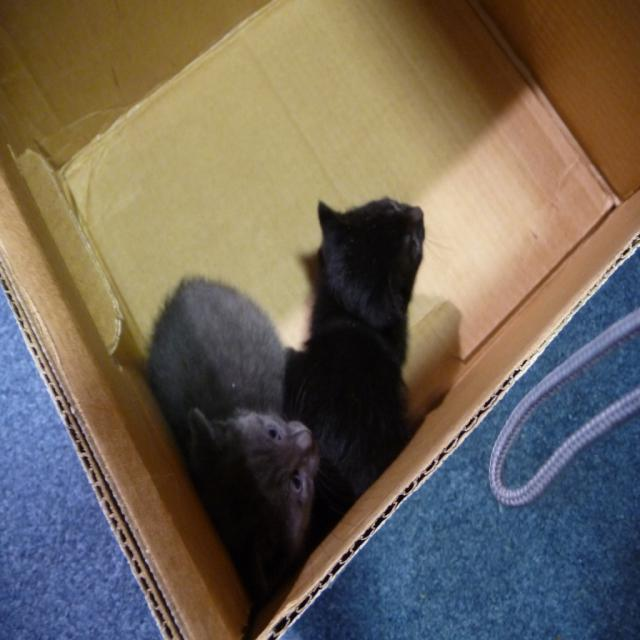Cat: (139, 271, 327, 622), (282, 187, 448, 528)
